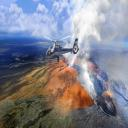helicopter: (45, 35, 81, 66)
